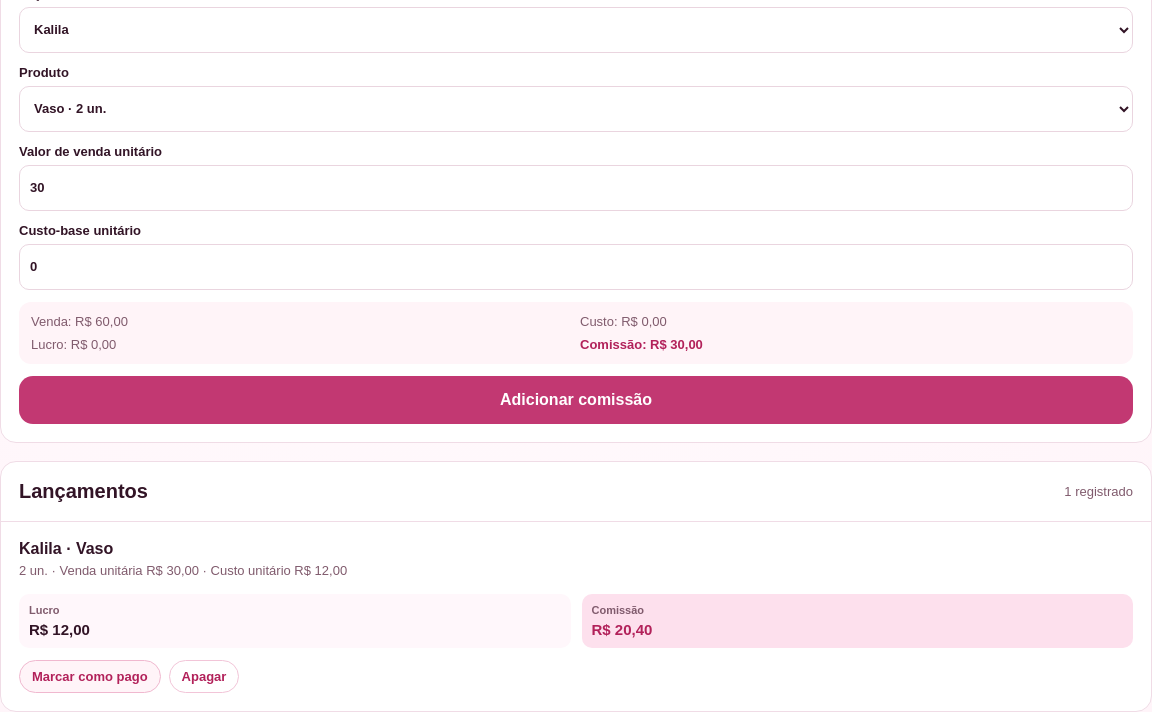
it: CommissionScreen › pede confirmação antes de apagar uma comissão
(page scrolled)
Step 1. Click the button with aria-label "Apagar comissão de Kalila" → (204, 676), box [169,660,239,693]
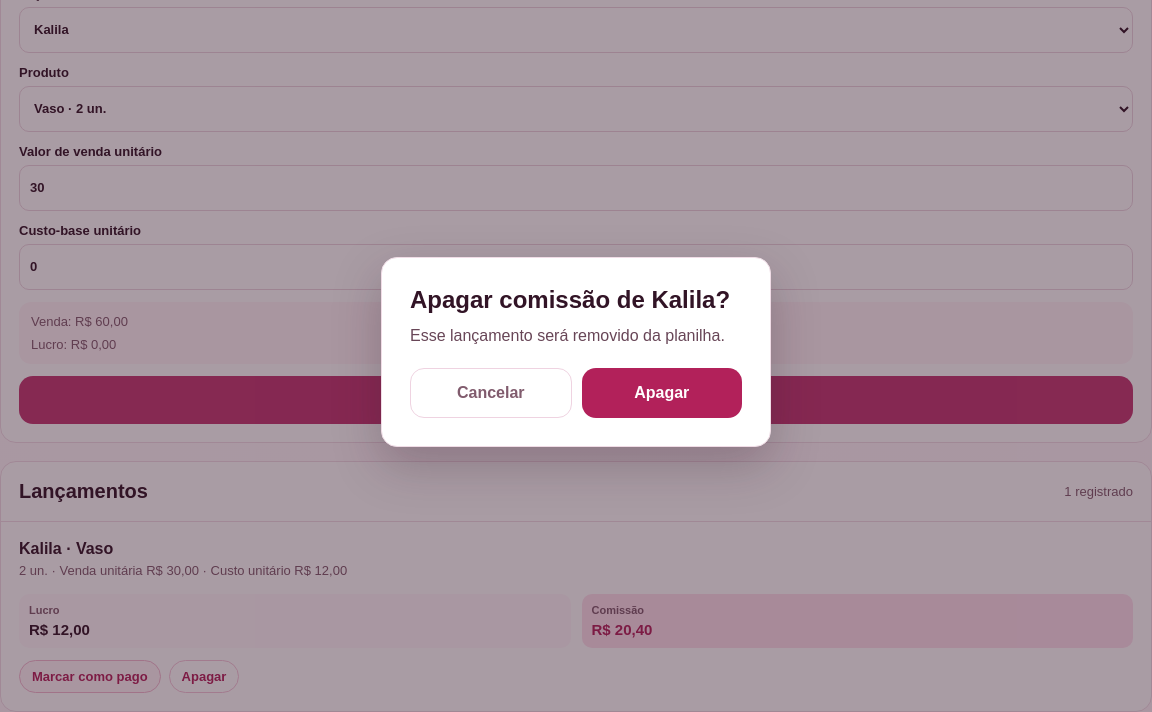
Expected: the dialog shows "Apagar comissão de Kalila?", [381,257,771,447]
Step 2. Click the button "Cancelar" → (491, 393), box [410,368,572,418]
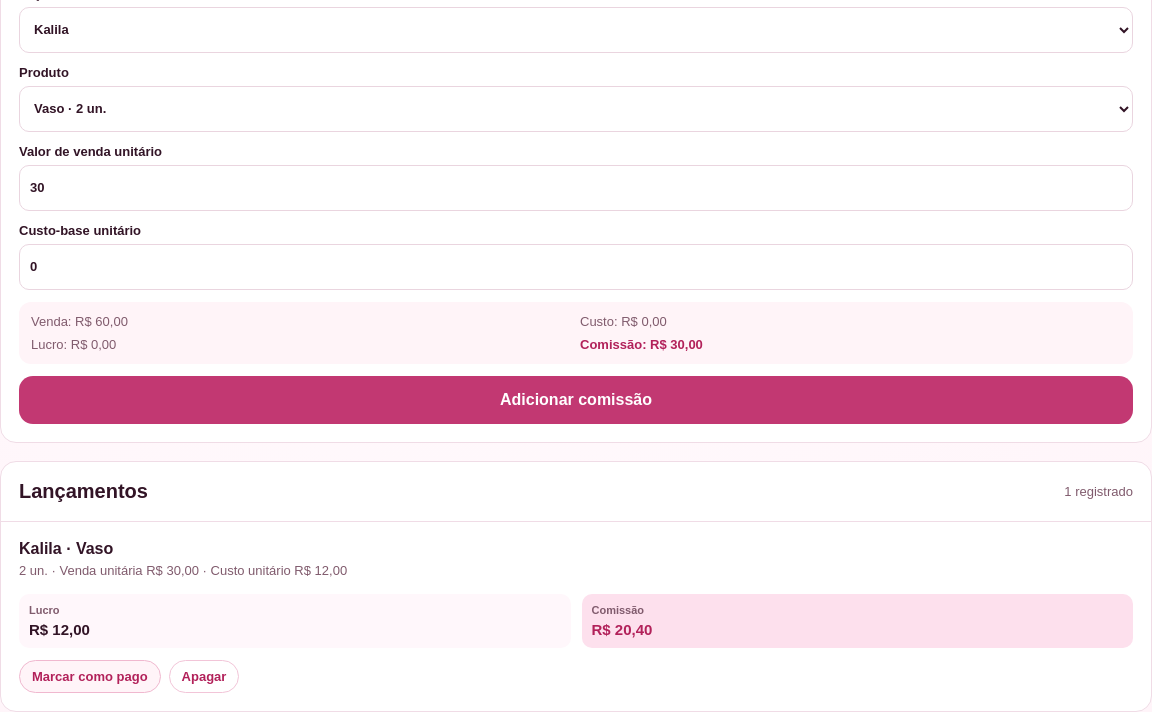
Expected: the dialog is gone
